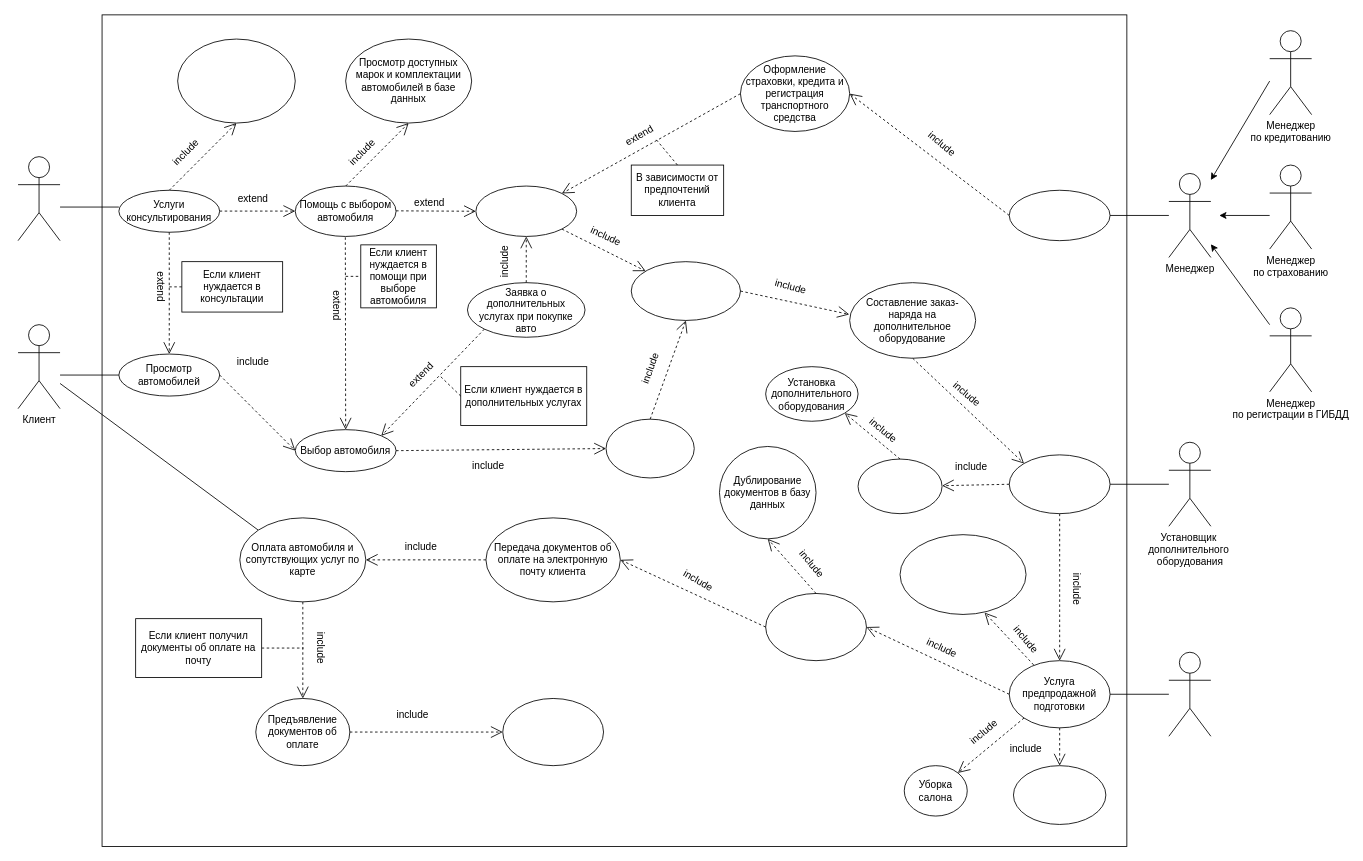
The diagram is 1363 pixels wide and 861 high, and some of its shapes have lost their labels. Each missing label, with the box of its shape:
Дополнительные услуги: (1008, 189, 1110, 241)
Заявка об оформлении заказа: (605, 418, 694, 478)
Менеджер по продажам: (17, 156, 60, 241)
Нанесение защитного блеска на кузов: (1013, 765, 1106, 824)
Осуществление дополнительных услуг: (475, 185, 577, 236)
Оформление заказа: (630, 261, 740, 320)
Перегон машины в зону шоу-рума: (765, 593, 866, 661)
Полировка пластика, зеркал, стёкол, кузова, бамперов, фар: (899, 534, 1026, 614)
Получение запчастей на складе: (857, 458, 942, 514)
Получение машины: (502, 698, 604, 766)
Просмотр доступных авто и акций в базе данных: (177, 38, 295, 123)
Слесарь ремонтной зоны: (1168, 651, 1211, 736)
Услуга установки дополнительного оборудования: (1008, 454, 1110, 514)
